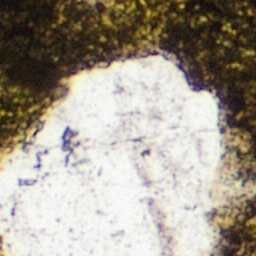cement_matrix: (0, 0, 255, 181), (218, 194, 255, 255), (62, 129, 75, 152)
gravel_crushed_stones: (0, 51, 255, 255), (61, 128, 76, 153)
